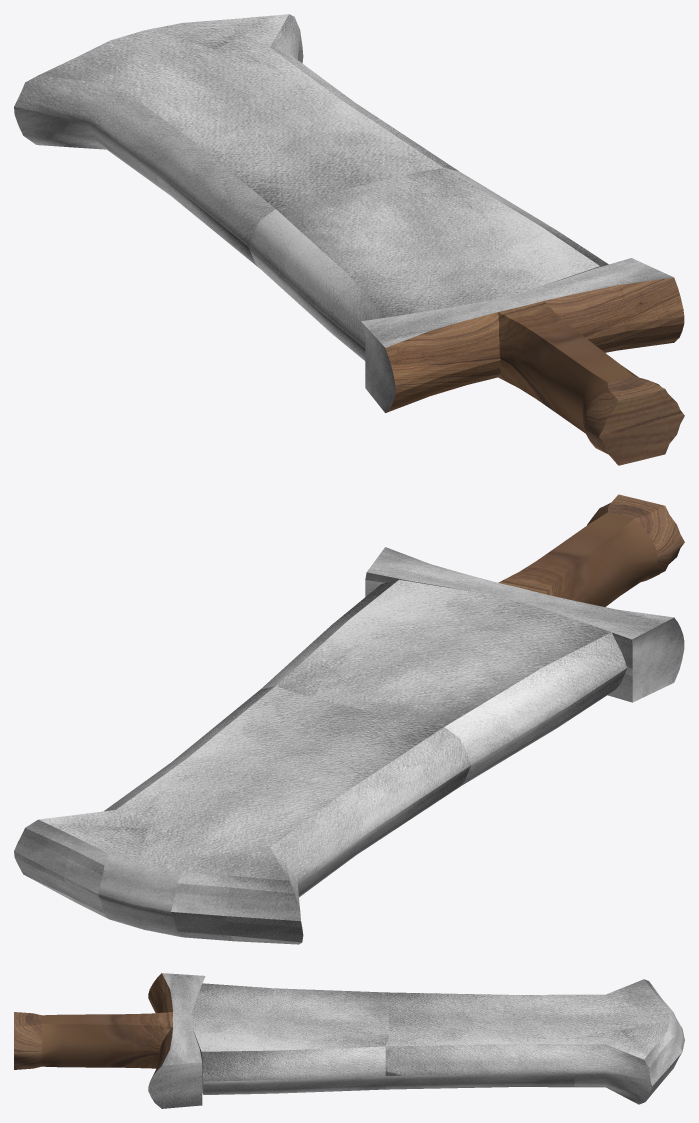
Rendered from espada1.obj.
3 views of the same model, one above another, from view 1: azimuth 30°, elevation 25°; view 2: azimuth 150°, elevation 25°; view 3: azimuth 270°, elevation 25° (orthographic). The views are drawn at different scales.
Visible parts, largest first — view 1: espada1; view 2: espada1; view 3: espada1.
Part boxes in pixels (x1,y1,x2,y2): espada1: [14, 14, 684, 465]; espada1: [14, 494, 684, 944]; espada1: [14, 973, 684, 1108].
Size of the model in its own units: 71.53 by 15.45 by 218.
